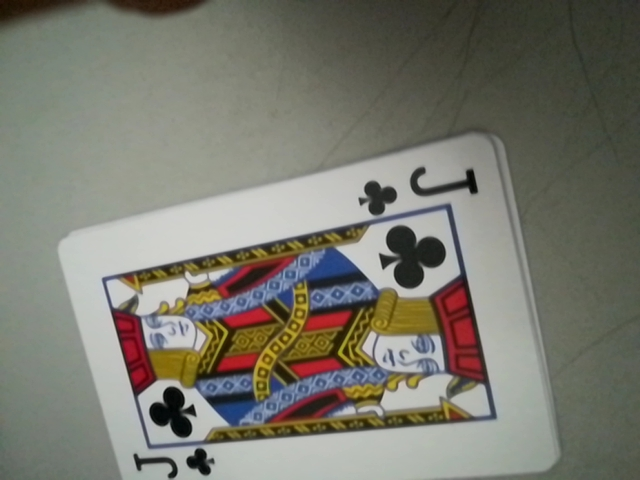mh j: (352, 159, 480, 217), (127, 440, 218, 480)
